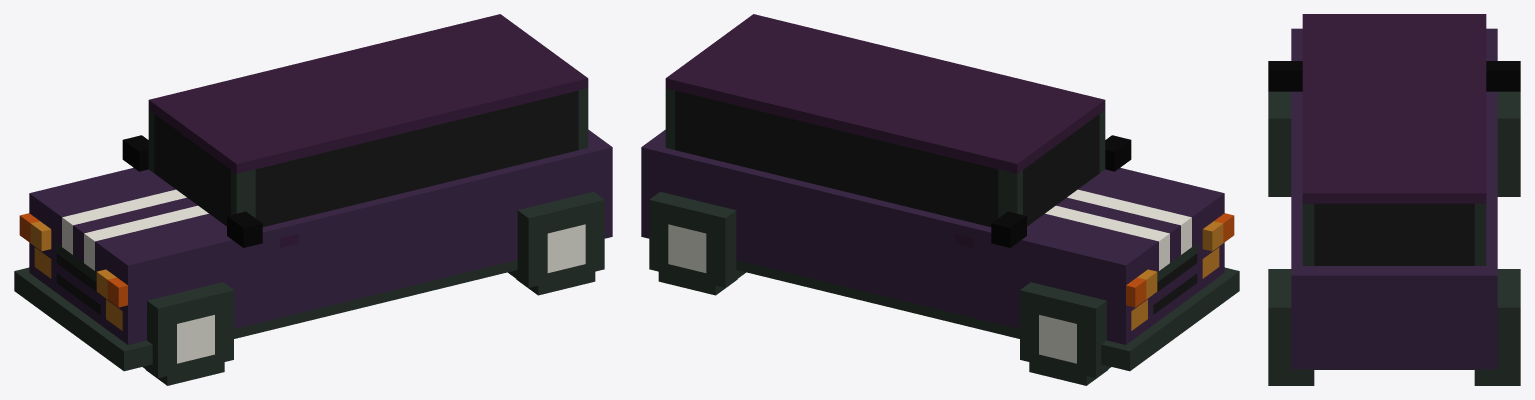
The model's file is car_purple_len_3.glb.
3 renders of one model, left to right at view 1: azimuth 30°, elevation 25°; view 2: azimuth 150°, elevation 25°; view 3: azimuth 270°, elevation 25°, orthographic. The views are drawn at different scales.
Visible parts, largest first — view 1: _0; view 2: _0; view 3: _0.
Part boxes in pixels (box(x1,y1,x2,y2)): _0: box(14, 14, 612, 385); _0: box(641, 14, 1239, 385); _0: box(1268, 14, 1520, 385).
Bounding box in the file's own units: 0.078 × 0.0285 × 0.033.
